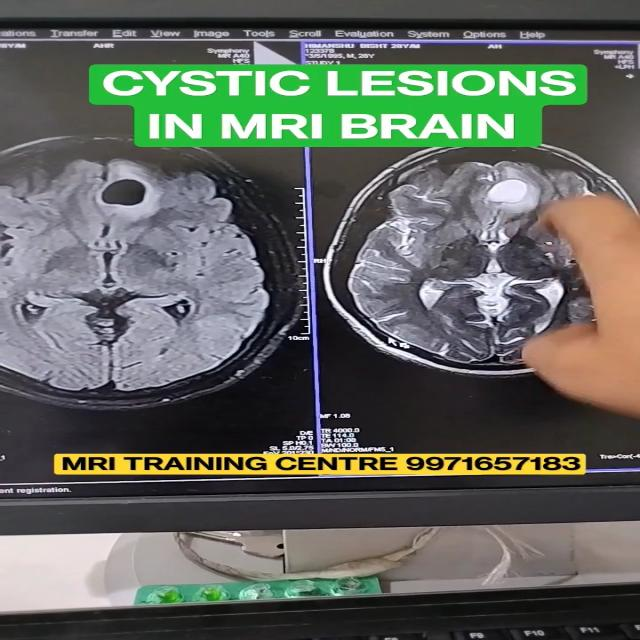tumor: (99, 166, 182, 219), (466, 179, 550, 224)
